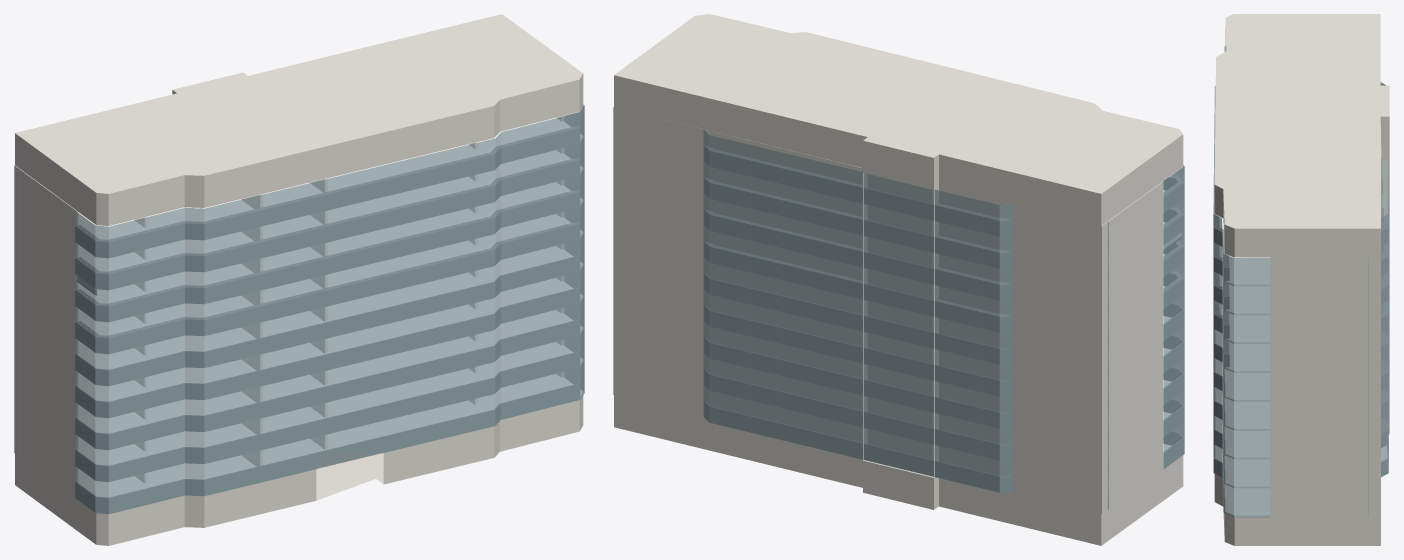
Rendered from context-office.gltf.
The picture shows the model from 3 angles, left to right: view 1: azimuth 30°, elevation 25°; view 2: azimuth 150°, elevation 25°; view 3: azimuth 270°, elevation 25°; orthographic projection. The views are drawn at different scales.
Visible parts, largest first — view 1: rear-BLD_OFFICE_01_glass_0, BLD_OFFICE_06_w2_0, rear-BLD_OFFICE_00_walls_exterior_0, BLD_OFFICE_05_walls [BLD_OFFICE_05]_0; view 2: BLD_OFFICE_06_w2_0, rear-BLD_OFFICE_01_glass_0, rear-BLD_OFFICE_00_walls_exterior_0; view 3: BLD_OFFICE_06_w2_0, rear-BLD_OFFICE_01_glass_0, BLD_OFFICE_05_walls [BLD_OFFICE_05]_0, rear-BLD_OFFICE_00_walls_exterior_0.
Boxes of the visible parts, <box> form: rear-BLD_OFFICE_01_glass_0: <box>19,104,584,514</box>; BLD_OFFICE_06_w2_0: <box>14,14,583,545</box>; rear-BLD_OFFICE_00_walls_exterior_0: <box>75,126,579,513</box>; BLD_OFFICE_05_walls [BLD_OFFICE_05]_0: <box>76,106,582,497</box>; BLD_OFFICE_06_w2_0: <box>613,14,1183,545</box>; rear-BLD_OFFICE_01_glass_0: <box>703,129,1184,509</box>; rear-BLD_OFFICE_00_walls_exterior_0: <box>704,146,1183,508</box>; BLD_OFFICE_06_w2_0: <box>1214,14,1389,545</box>; rear-BLD_OFFICE_01_glass_0: <box>1213,46,1388,517</box>; BLD_OFFICE_05_walls [BLD_OFFICE_05]_0: <box>1215,214,1269,516</box>; rear-BLD_OFFICE_00_walls_exterior_0: <box>1214,101,1388,512</box>.
Bounding box in the file's own units: 46.61 × 32 × 16.1.
